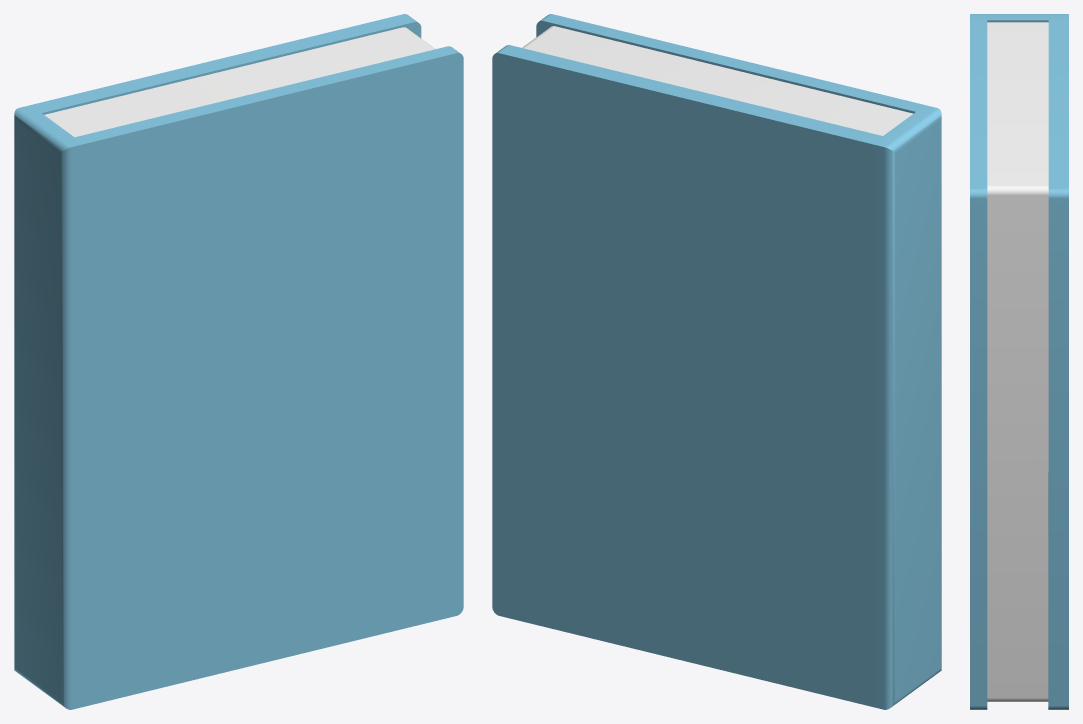
Rendered from Advanced Syntax Knowledge(Book).fbx.
3 views of the same model, side by side, from view 1: azimuth 30°, elevation 25°; view 2: azimuth 150°, elevation 25°; view 3: azimuth 270°, elevation 25° (orthographic). The views are drawn at different scales.
Visible parts, largest first — view 1: Cube.002; view 2: Cube.002; view 3: Cube.002.
Part boxes in pixels (box(x1,y1,x2,y2)): Cube.002: box(14, 14, 463, 709); Cube.002: box(492, 14, 941, 709); Cube.002: box(970, 14, 1068, 709).
Bounding box in the file's own units: 90.92 × 123 × 21.06.
